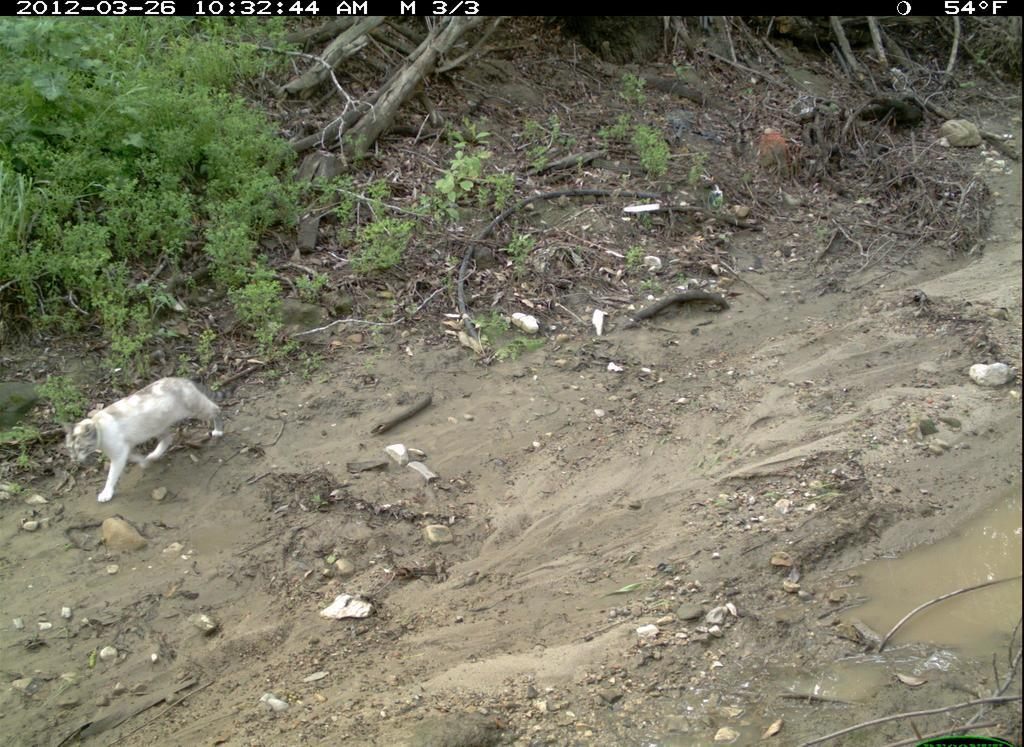cat: (58, 373, 235, 509)
